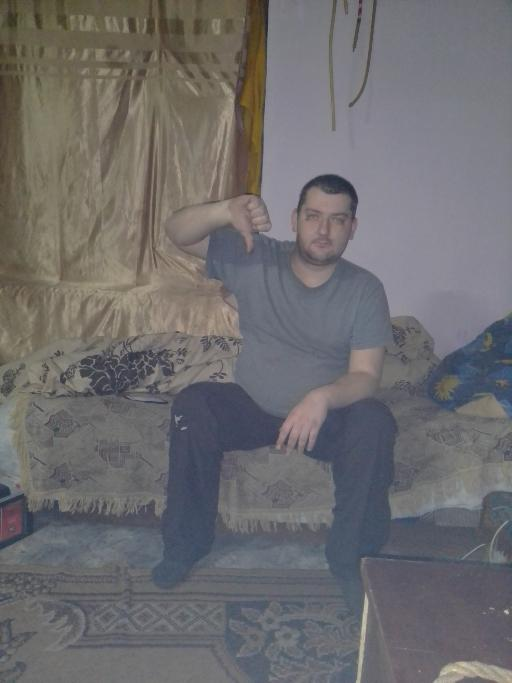dislike: (225, 192, 273, 255)
no_gesture: (273, 390, 326, 459)
